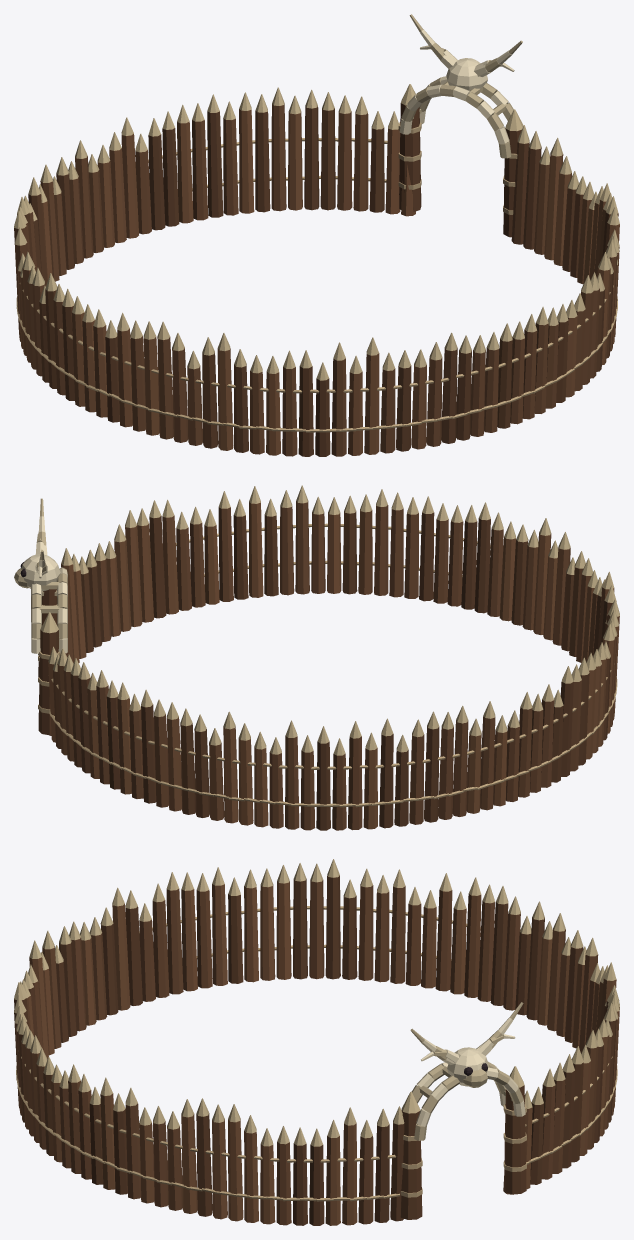
File: yard-BCXHtimJ.glb
The picture shows the model from 3 angles, top to bottom: view 1: azimuth 30°, elevation 25°; view 2: azimuth 150°, elevation 25°; view 3: azimuth 270°, elevation 25°; orthographic projection. The views are drawn at different scales.
Visible parts, largest first — view 1: yard, yard_gate; view 2: yard, yard_gate; view 3: yard, yard_gate.
Boxes of the visible parts, x1=… form: yard: x1=14, y1=87, x2=619, y2=456; yard_gate: x1=398, y1=14, x2=523, y2=237; yard: x1=48, y1=485, x2=619, y2=830; yard_gate: x1=14, y1=498, x2=67, y2=735; yard: x1=14, y1=859, x2=619, y2=1225; yard_gate: x1=400, y1=1002, x2=526, y2=1219.
Size of the model in its own units: 15.59 by 5.5 by 15.6.
